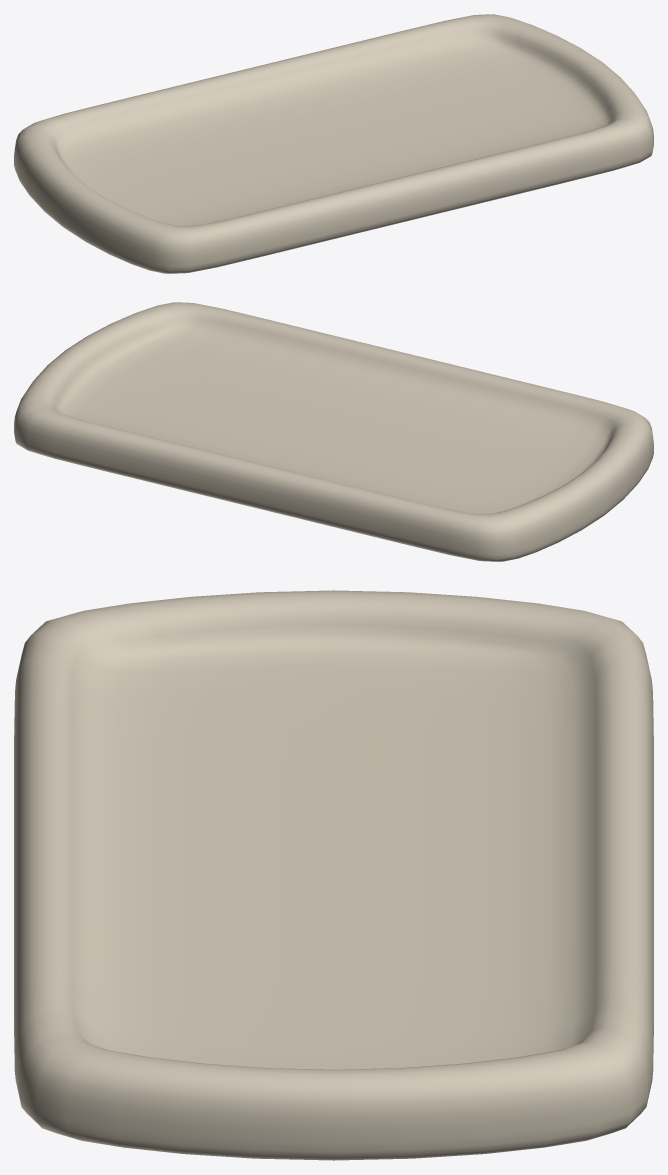
File: colorpicker.glb
3 views of the same model, one above another, from view 1: azimuth 30°, elevation 25°; view 2: azimuth 150°, elevation 25°; view 3: azimuth 270°, elevation 25° (orthographic). The views are drawn at different scales.
Visible parts, largest first — view 1: colorpicker; view 2: colorpicker; view 3: colorpicker.
Boxes of the visible parts, left/top/right/bottom form: colorpicker: left=14, top=14, right=653, bottom=273; colorpicker: left=14, top=302, right=653, bottom=561; colorpicker: left=14, top=590, right=653, bottom=1160.
Bounding box in the file's own units: 0.8606 × 0.0627 × 0.4563.
1 material, 1 textured.
